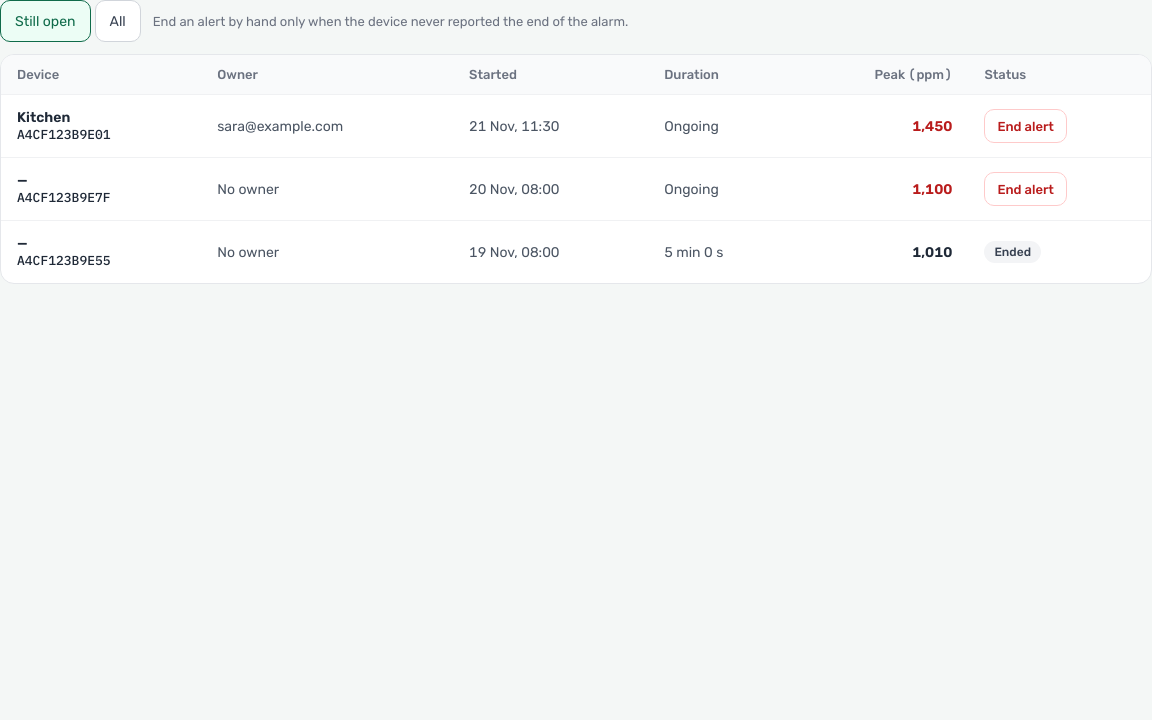
AdminAlerts › ends the alert, says so and reloads the list
Click the button "End alert" in the row of "Kitchen". click: [1026, 126]
box: [984,109,1067,143]
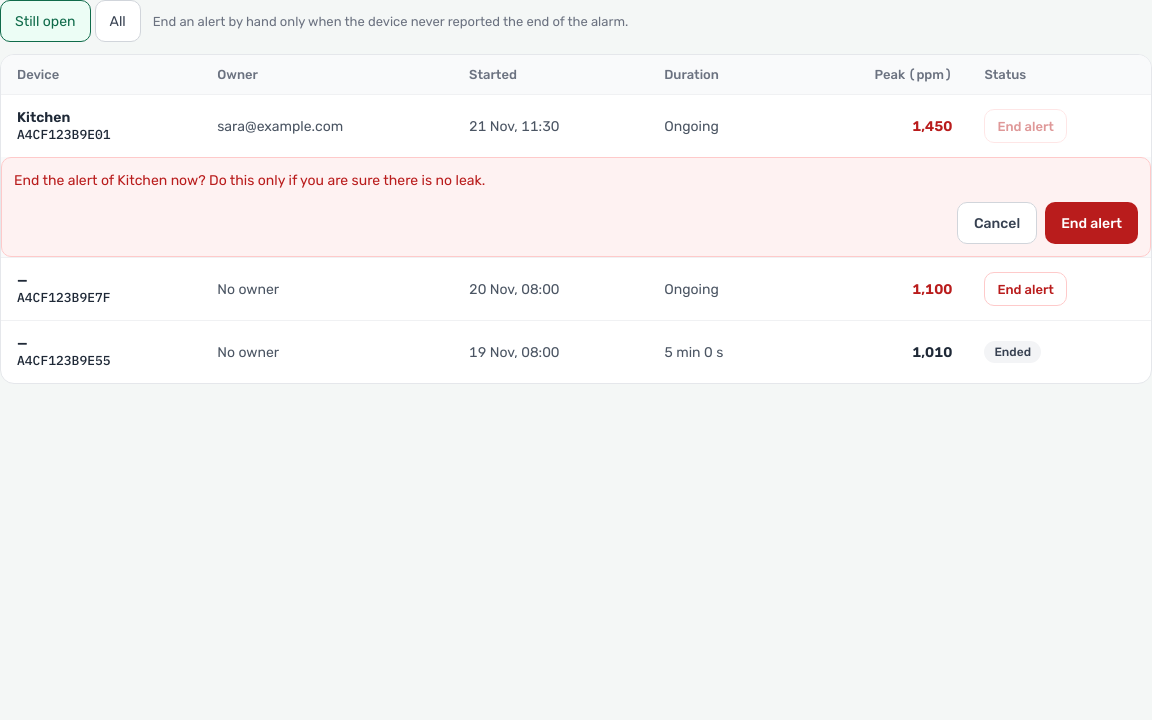
Click the 2nd button "End alert". click: [1092, 223]
box: [1045,202,1138,244]
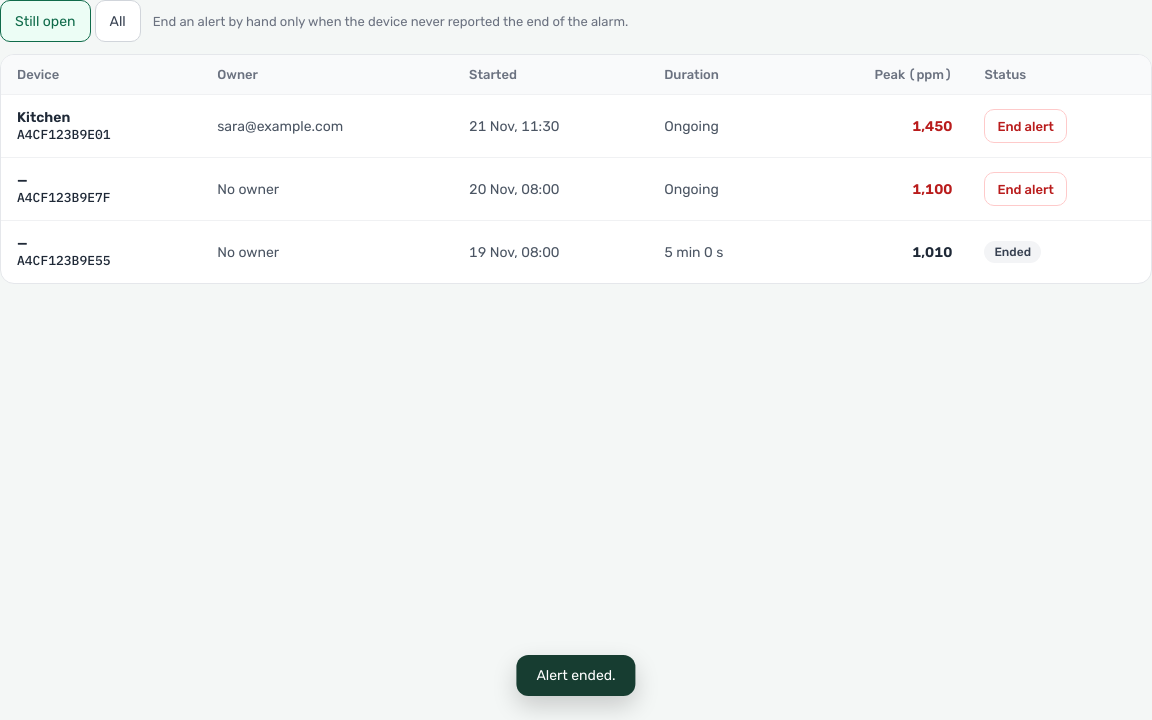
Now the dialog is gone
